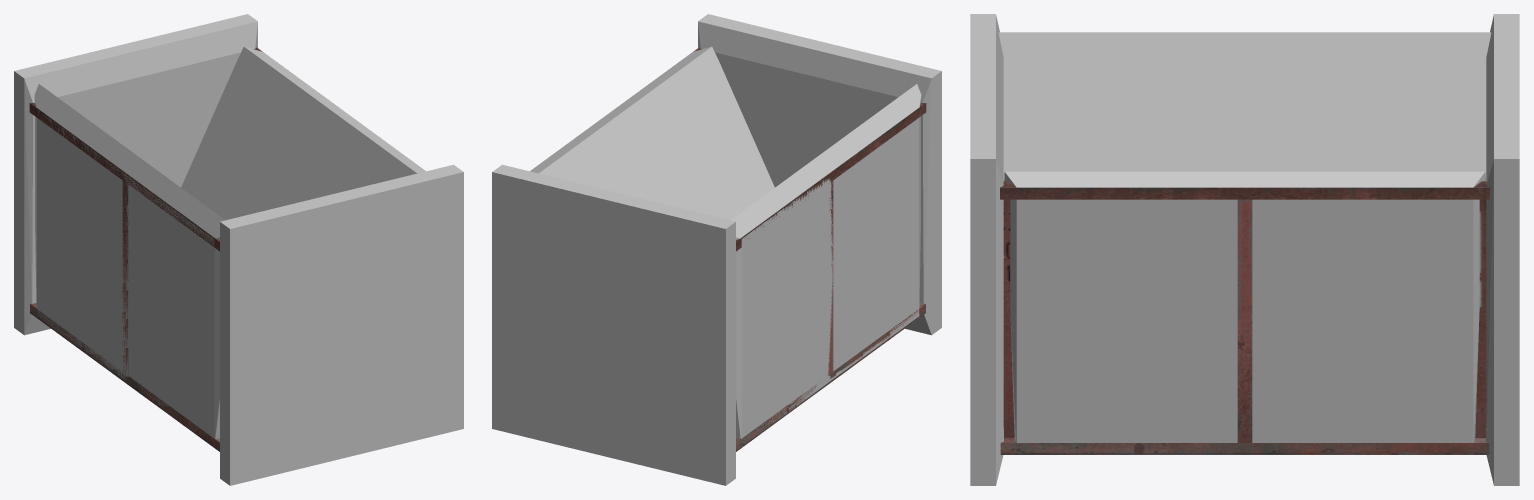
The model's file is SM_trash_box_03.fbx.
The picture shows the model from 3 angles, left to right: view 1: azimuth 30°, elevation 25°; view 2: azimuth 150°, elevation 25°; view 3: azimuth 270°, elevation 25°; orthographic projection. The views are drawn at different scales.
Visible parts, largest first — view 1: SM_trash_box_03_ConvexHulls, SM_trash_box_03; view 2: SM_trash_box_03_ConvexHulls, SM_trash_box_03; view 3: SM_trash_box_03_ConvexHulls, SM_trash_box_03.
Boxes of the visible parts, x1=… form: SM_trash_box_03_ConvexHulls: x1=14, y1=14, x2=463, y2=485; SM_trash_box_03: x1=29, y1=47, x2=262, y2=451; SM_trash_box_03_ConvexHulls: x1=492, y1=14, x2=941, y2=485; SM_trash_box_03: x1=693, y1=47, x2=926, y2=451; SM_trash_box_03_ConvexHulls: x1=970, y1=14, x2=1519, y2=485; SM_trash_box_03: x1=1000, y1=181, x2=1489, y2=454.
Size of the model in its own units: 122 by 195 by 128.
Materials: 2 (1 with a texture image).
